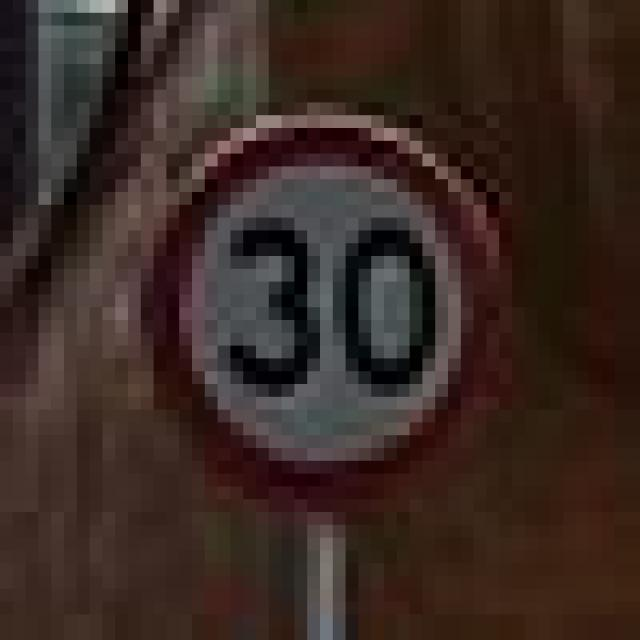SPEED_LIMIT_30: (115, 90, 512, 512)
